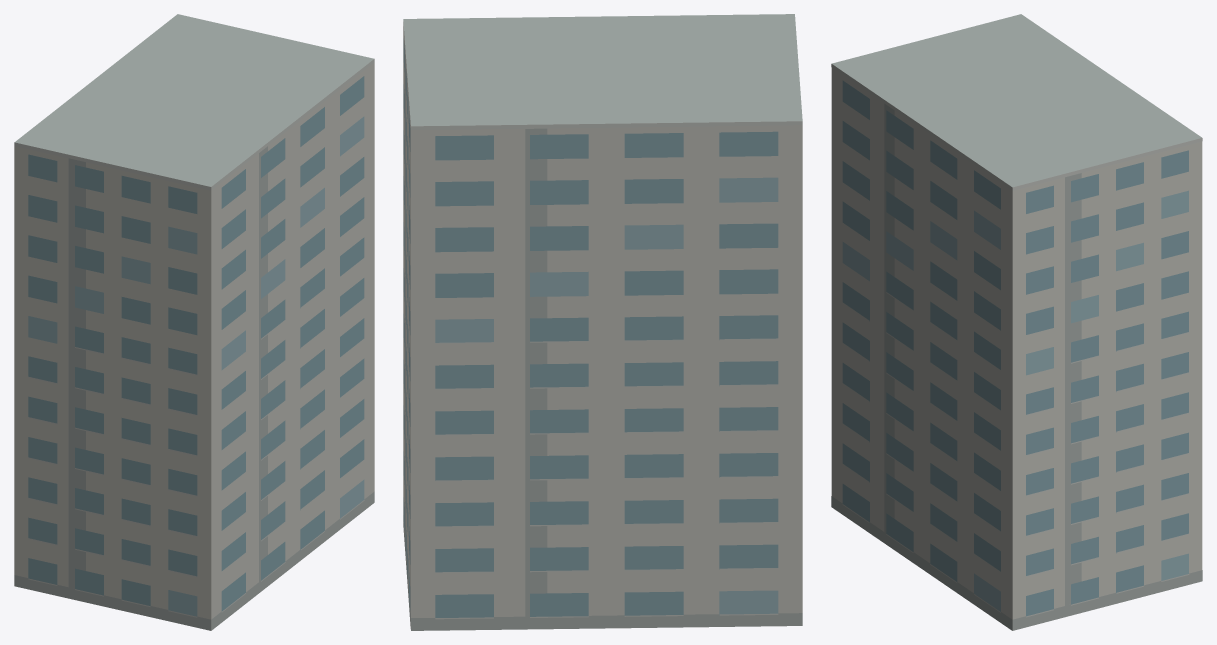
The model's file is residential-8412562a-ac39-47dd-b9be-28a63b715090.glb.
The picture shows the model from 3 angles, left to right: view 1: azimuth 30°, elevation 25°; view 2: azimuth 150°, elevation 25°; view 3: azimuth 270°, elevation 25°; orthographic projection. The views are drawn at different scales.
Parts seen in each view (by area): view 1: residential-8412562a-ac39-47dd-b9be-28a63b715090.tmp; view 2: residential-8412562a-ac39-47dd-b9be-28a63b715090.tmp; view 3: residential-8412562a-ac39-47dd-b9be-28a63b715090.tmp.
Part boxes in pixels (x1,y1,x2,y2): residential-8412562a-ac39-47dd-b9be-28a63b715090.tmp: (14,14,374,630); residential-8412562a-ac39-47dd-b9be-28a63b715090.tmp: (403,14,802,630); residential-8412562a-ac39-47dd-b9be-28a63b715090.tmp: (831,14,1202,630).
Bounding box in the file's own units: 25.17 × 30 × 22.75.
